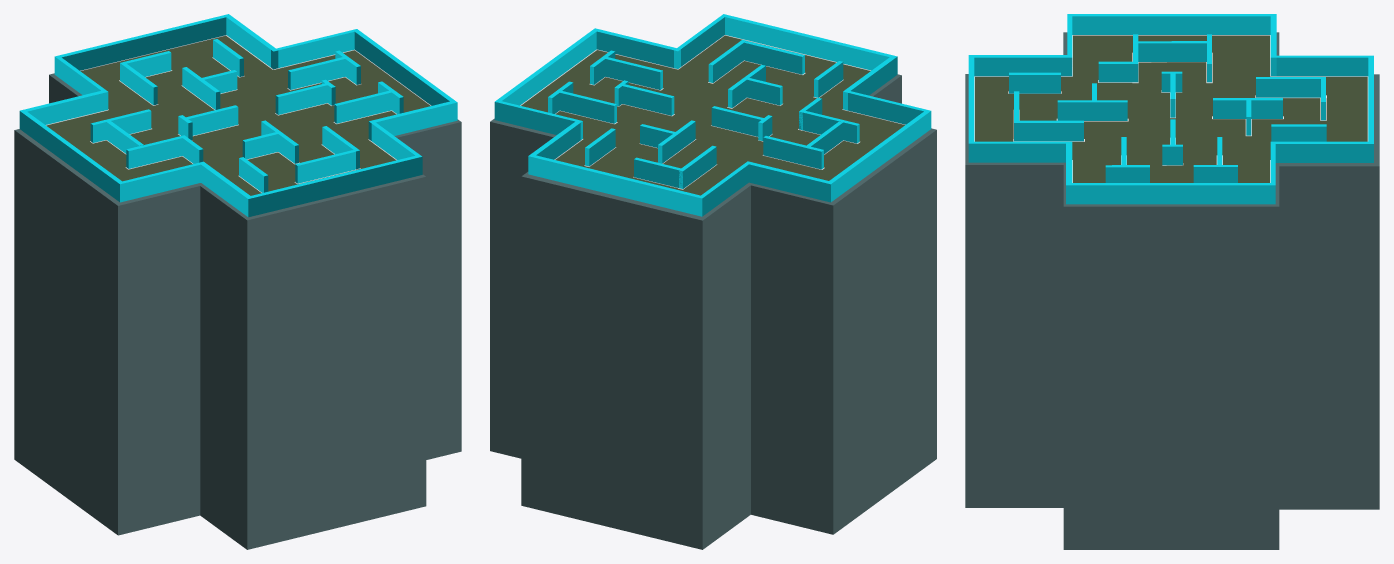
File: Level_7.FBX
3 views of the same model, side by side, from view 1: azimuth 30°, elevation 25°; view 2: azimuth 150°, elevation 25°; view 3: azimuth 270°, elevation 25° (orthographic). The views are drawn at different scales.
Visible parts, largest first — view 1: Level_7; view 2: Level_7; view 3: Level_7.
Boxes of the visible parts, left/top/right/bottom form: Level_7: left=14, top=14, right=461, bottom=549; Level_7: left=490, top=14, right=936, bottom=549; Level_7: left=965, top=14, right=1379, bottom=549.
Size of the model in its own units: 266 by 258 by 267.
